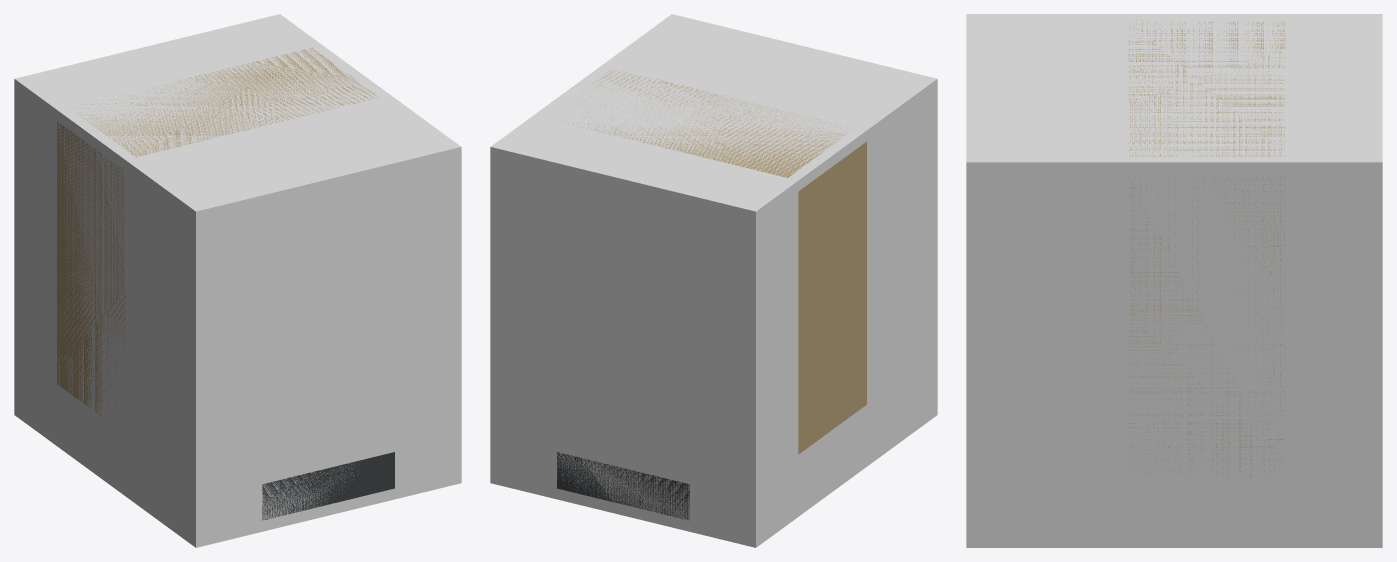
Rendered from sniper_sight_reflex.glb.
The picture shows the model from 3 angles, left to right: view 1: azimuth 30°, elevation 25°; view 2: azimuth 150°, elevation 25°; view 3: azimuth 270°, elevation 25°; orthographic projection. The views are drawn at different scales.
Parts seen in each view (by area): view 1: COL_part, sight; view 2: COL_part, sight; view 3: COL_part, sight.
Part boxes in pixels (box(x1,y1,x2,y2)): COL_part: box(14, 14, 461, 547); sight: box(57, 48, 394, 520); COL_part: box(490, 14, 937, 547); sight: box(557, 69, 866, 520); COL_part: box(966, 14, 1382, 547); sight: box(1128, 20, 1285, 476).
Size of the model in its own units: 0.038 by 0.046 by 0.045.
